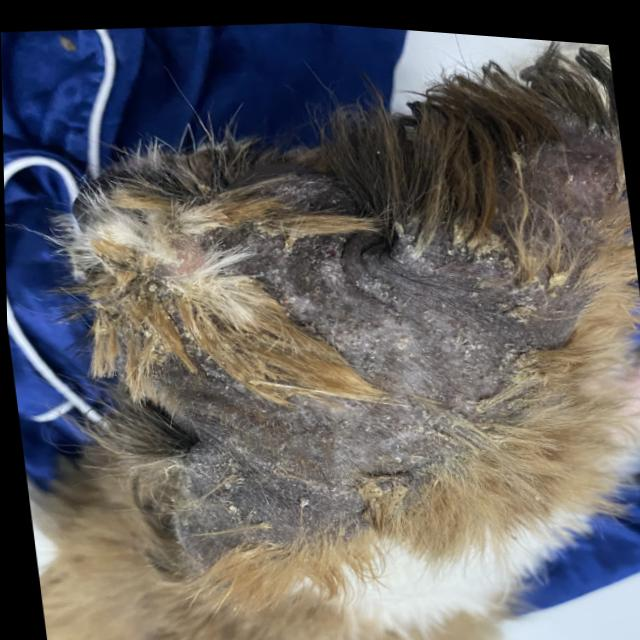demodicosis: (273, 164, 485, 516), (115, 216, 311, 537), (430, 93, 634, 393)
